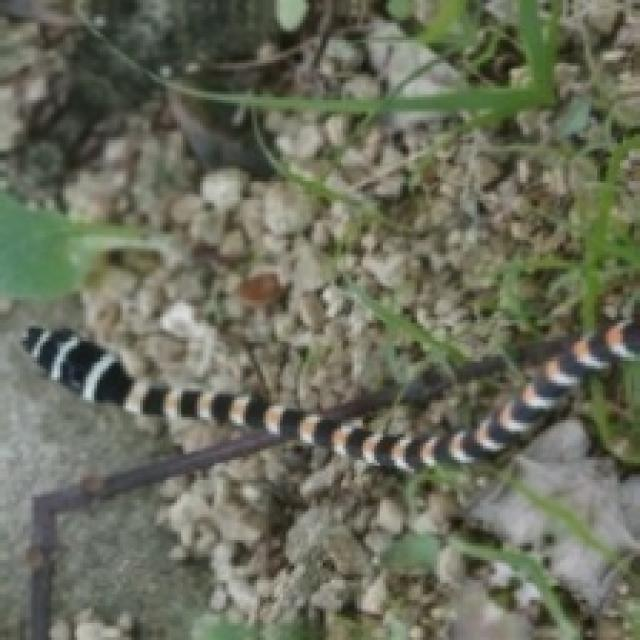paradise tree snake: (23, 320, 637, 469)
